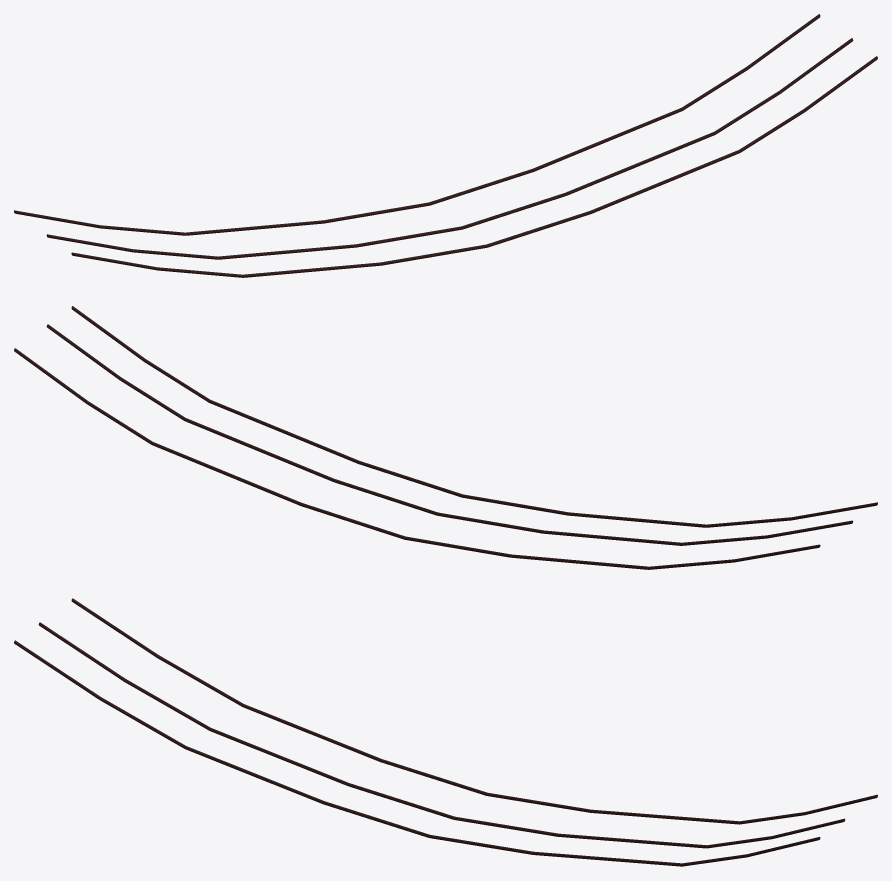
The model's file is Cables.fbx.
3 views of the same model, one above another, from view 1: azimuth 30°, elevation 25°; view 2: azimuth 150°, elevation 25°; view 3: azimuth 330°, elevation 25° (orthographic).
Parts seen in each view (by area): view 1: pCylinder12, pCylinder14, pCylinder13; view 2: pCylinder13, pCylinder12, pCylinder14; view 3: pCylinder13, pCylinder14, pCylinder12.
Part boxes in pixels (x1,y1,x2,y2): pCylinder12: (71,56,877,277); pCylinder14: (14,14,820,235); pCylinder13: (46,38,853,259); pCylinder13: (46,324,853,545); pCylinder12: (71,306,877,527); pCylinder14: (14,348,820,569); pCylinder13: (38,622,845,848); pCylinder14: (71,598,877,824); pCylinder12: (14,640,820,866).
Bounding box in the file's own units: 52.61 × 6.02 × 6.71.
